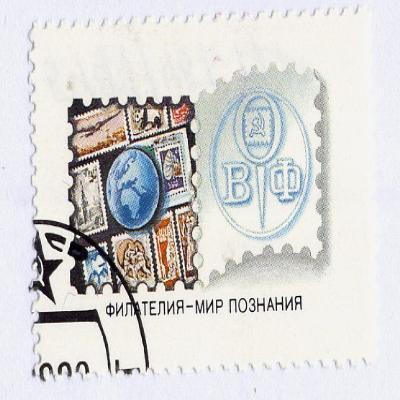graphics: (29, 6, 381, 383)
